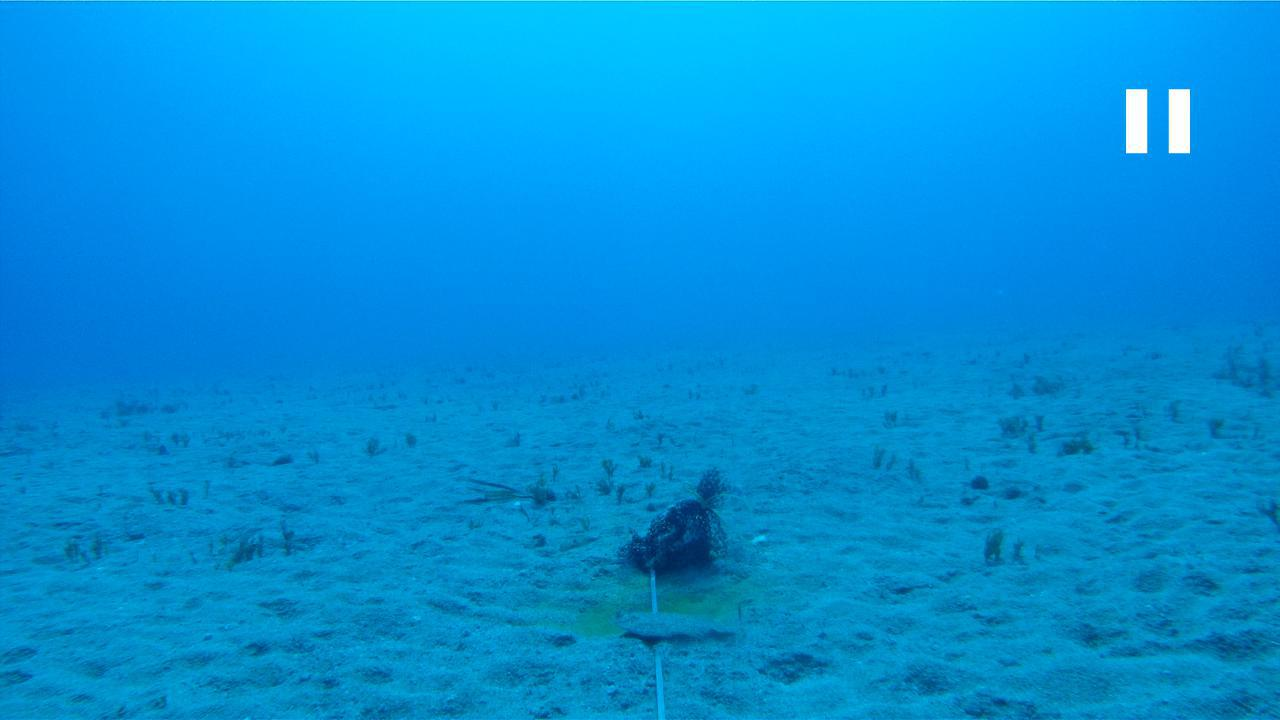bothus: (612, 606, 737, 639)
